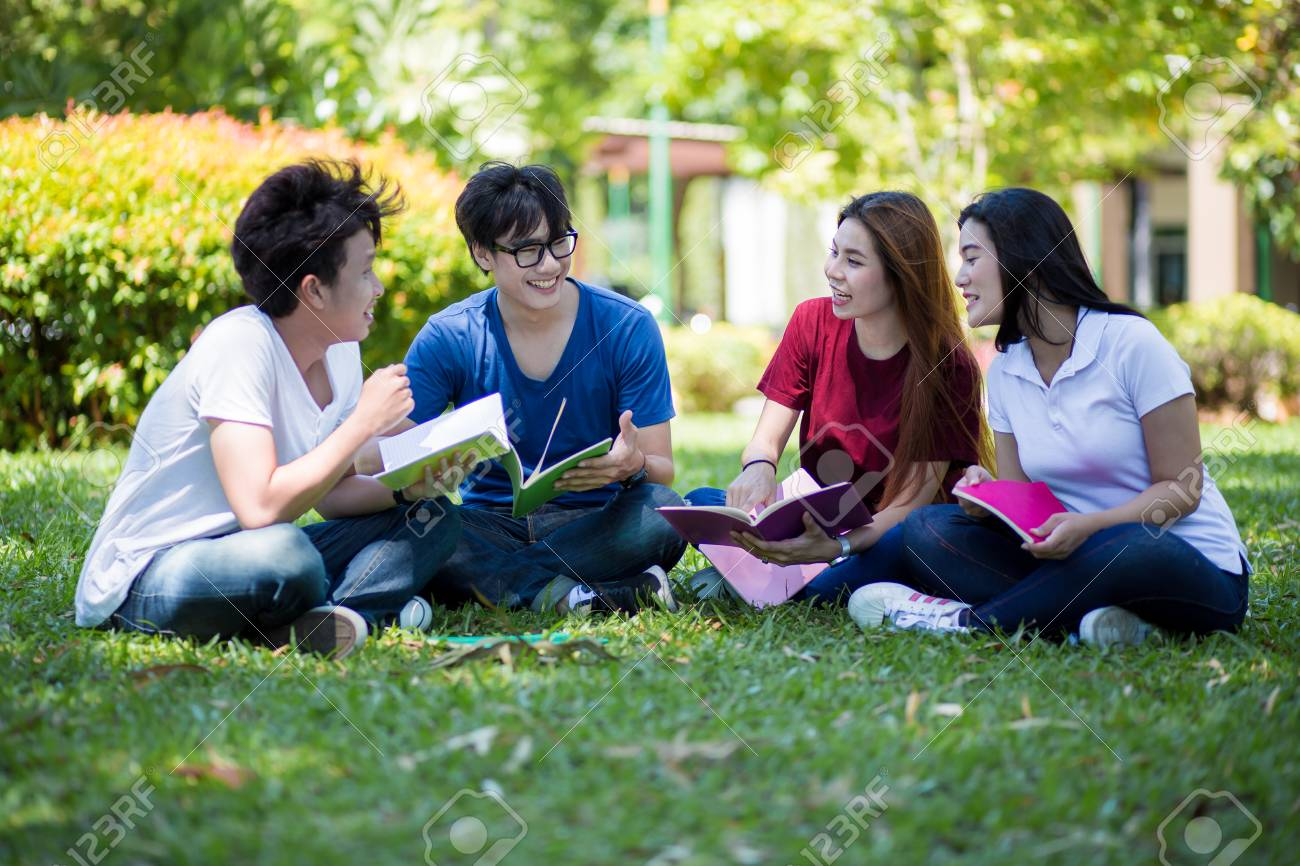Person: (74, 154, 416, 661), (955, 189, 1248, 653), (414, 160, 688, 613), (688, 191, 956, 506)
